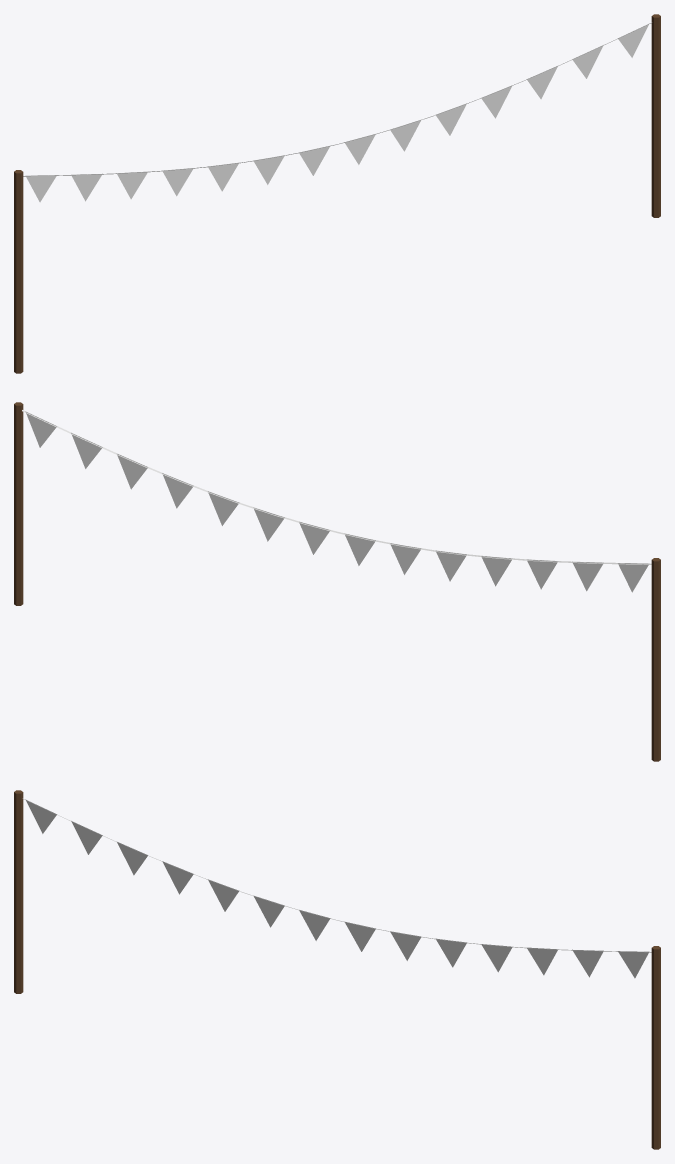
File: kemah-bendera.glb
The picture shows the model from 3 angles, top to bottom: view 1: azimuth 30°, elevation 25°; view 2: azimuth 150°, elevation 25°; view 3: azimuth 330°, elevation 25°; orthographic projection.
Parts seen in each view (by area): view 1: bendera, tiang, tiang.001; view 2: bendera, tiang, tiang.001; view 3: bendera, tiang, tiang.001.
Boxes of the visible parts, x1,y1,x2,y2 form: bendera: (23,22,652,202); tiang: (14,170,23,373); tiang.001: (651,14,660,217); bendera: (22,410,651,592); tiang: (651,558,660,761); tiang.001: (14,402,23,605); bendera: (22,798,651,978); tiang: (14,790,23,993); tiang.001: (651,946,660,1149).
Size of the model in its own units: 8.09 by 2.4 by 0.1.
